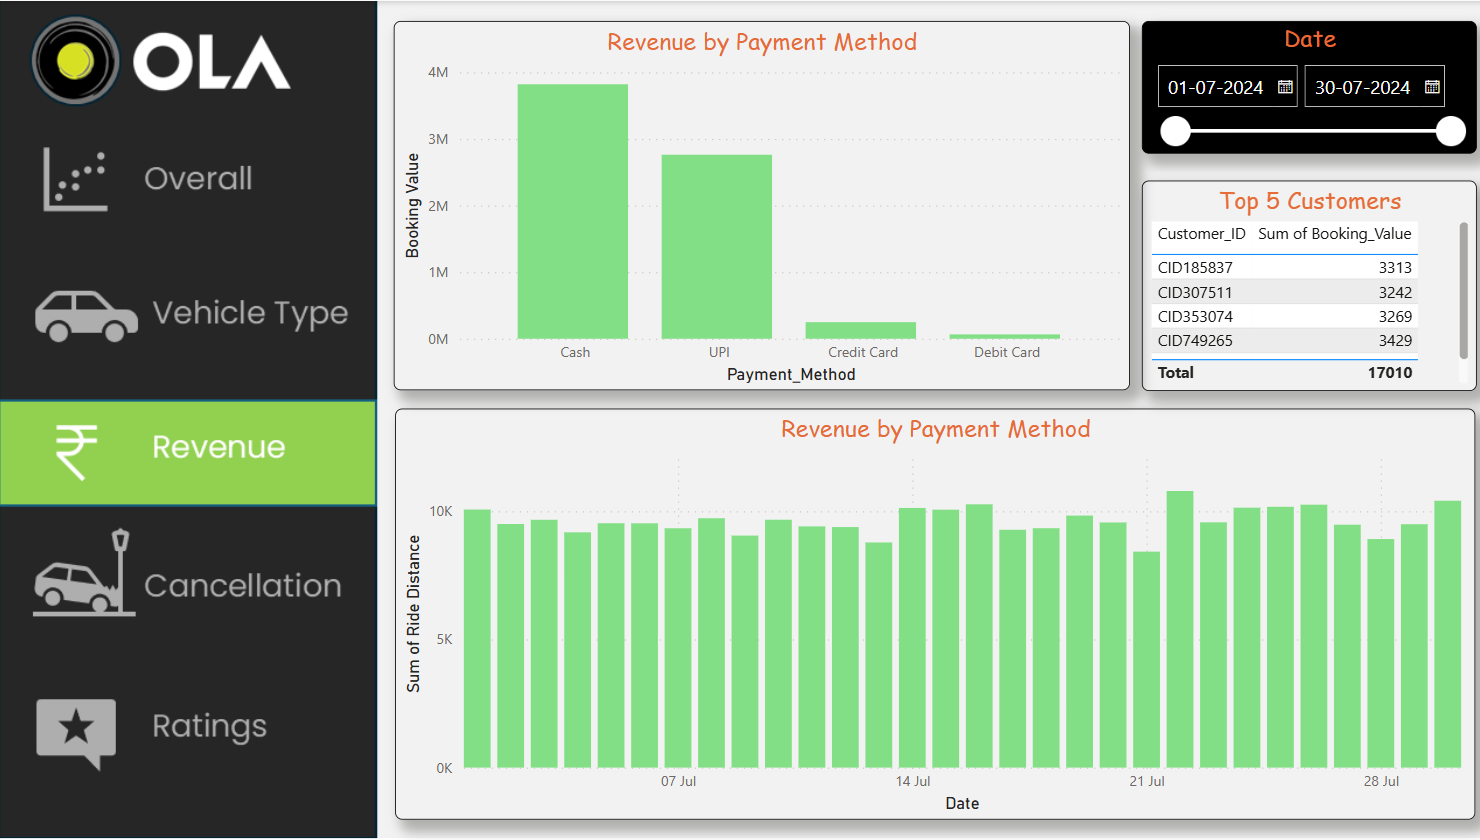

This screenshot's page, from the dashboard's own definition file:
{"tool":"powerbi","page":{"name":"Revenue","canvas":[1280,720],"ordinal":2},"visuals":[{"type":"actionButton","box":[0,225.9,324.8,86.7],"z":0},{"type":"actionButton","box":[0,451.8,324.8,86.7],"z":1000},{"type":"actionButton","box":[0,581.3,324.8,86.7],"z":2000},{"type":"actionButton","box":[0,108.7,324.8,86.7],"z":3000},{"type":"columnChart","title":"Revenue by Payment Method","fields":{"Y":["Sum(Bookings (2).Booking_Value)"],"Category":["Bookings (2).Payment_Method"]},"box":[337.8,16.8,630.7,316.8],"z":4000},{"type":"columnChart","title":"Revenue by Payment Method","fields":{"Y":["Sum(Bookings (2).Ride_Distance)"],"Category":["Bookings (2).Date"]},"box":[340.1,348.7,925.8,352.1],"z":5000},{"type":"slicer","title":"Date","fields":{"Values":["Bookings (2).Date"]},"box":[979.3,17.3,286.9,113.4],"z":6000},{"type":"tableEx","title":"Top 5 Customers","fields":{"Values":["Bookings (2).Customer_ID","Sum(Bookings (2).Booking_Value)"]},"box":[979.3,153.4,286.9,180.1],"z":7000}]}

Visuals, with their boxes in screenshot pixels (x1, y1, x2, y2):
actionButton: detection(0, 263, 357, 366)
actionButton: detection(0, 530, 357, 633)
actionButton: detection(0, 683, 357, 786)
actionButton: detection(0, 125, 357, 227)
"Revenue by Payment Method" columnChart: detection(372, 16, 1118, 391)
"Revenue by Payment Method" columnChart: detection(375, 408, 1470, 825)
"Date" slicer: detection(1131, 17, 1470, 151)
"Top 5 Customers" tableEx: detection(1131, 177, 1470, 390)
